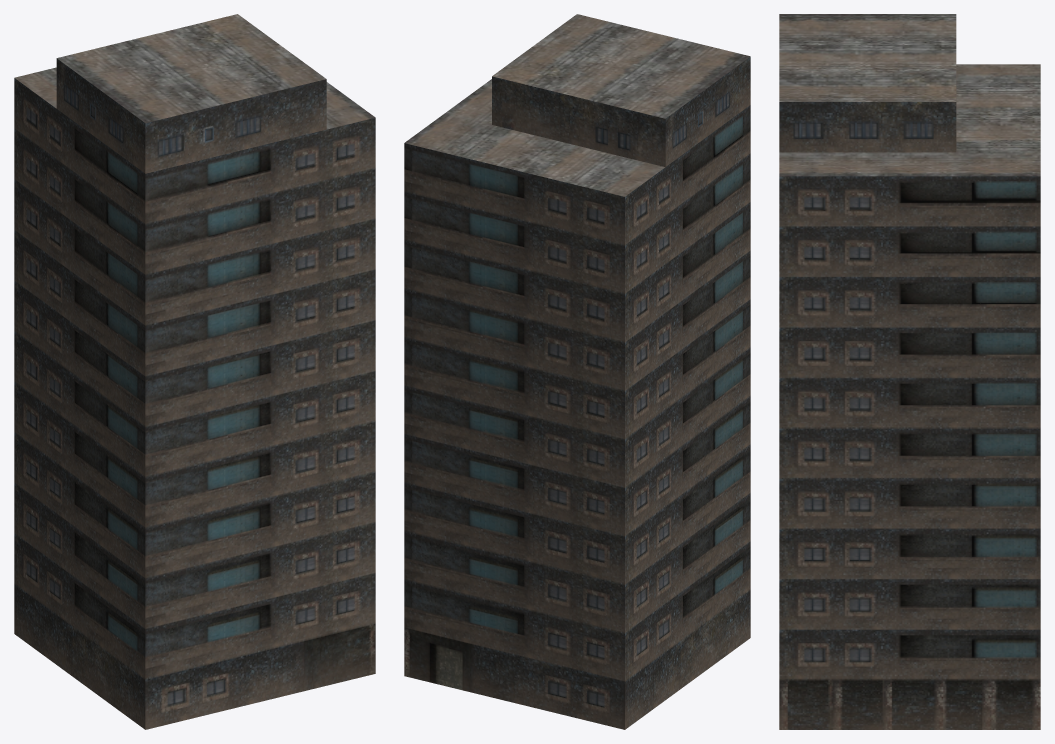
The model's file is Tower08.FBX.
The picture shows the model from 3 angles, left to right: view 1: azimuth 30°, elevation 25°; view 2: azimuth 150°, elevation 25°; view 3: azimuth 270°, elevation 25°; orthographic projection. The views are drawn at different scales.
Visible parts, largest first — view 1: Tower08; view 2: Tower08; view 3: Tower08.
Boxes of the visible parts, bbox=[...] form: Tower08: bbox=[14, 14, 375, 729]; Tower08: bbox=[404, 14, 750, 729]; Tower08: bbox=[779, 14, 1040, 729].
Size of the model in its own units: 2437 by 6133 by 2405.
